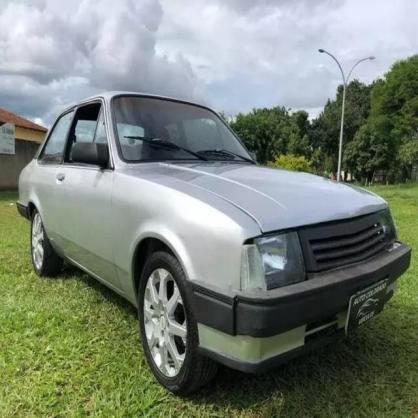car: (14, 94, 414, 399)
